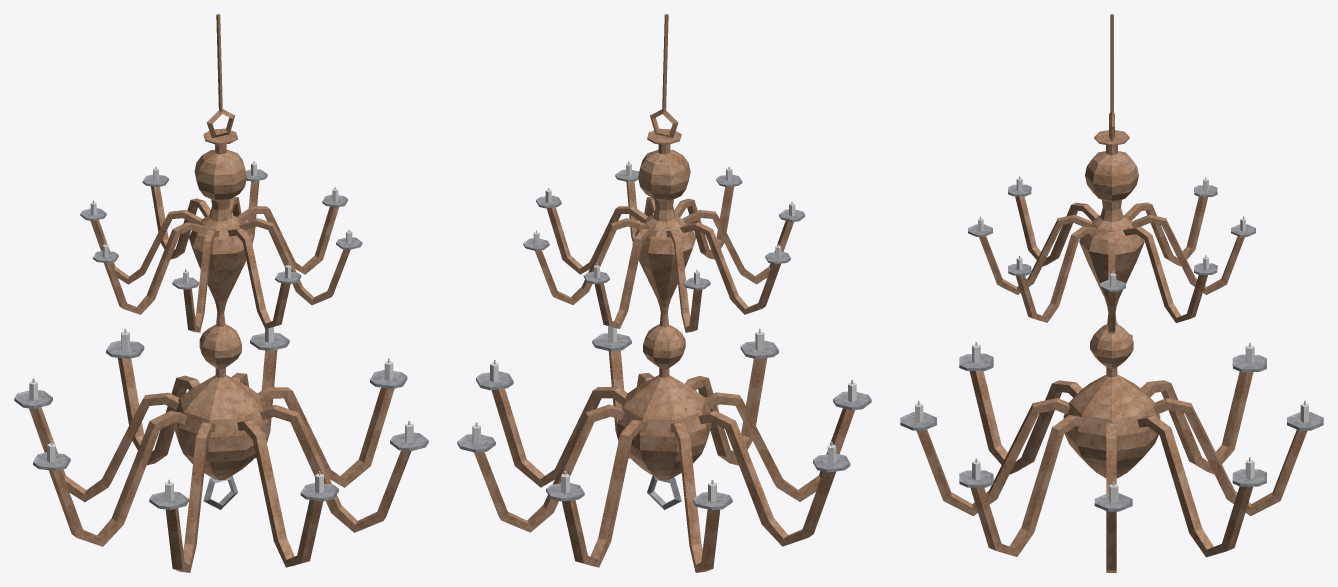
Rendered from CANDIERISOSNIDO.fbx.
The picture shows the model from 3 angles, left to right: view 1: azimuth 30°, elevation 25°; view 2: azimuth 150°, elevation 25°; view 3: azimuth 270°, elevation 25°; orthographic projection.
Parts seen in each view (by area): view 1: Torus; view 2: Torus; view 3: Torus.
Boxes of the visible parts, x1=… form: Torus: x1=14, y1=14, x2=428, y2=572; Torus: x1=457, y1=14, x2=871, y2=572; Torus: x1=900, y1=14, x2=1323, y2=572.
Bounding box in the file's own units: 599 × 779 × 599.
